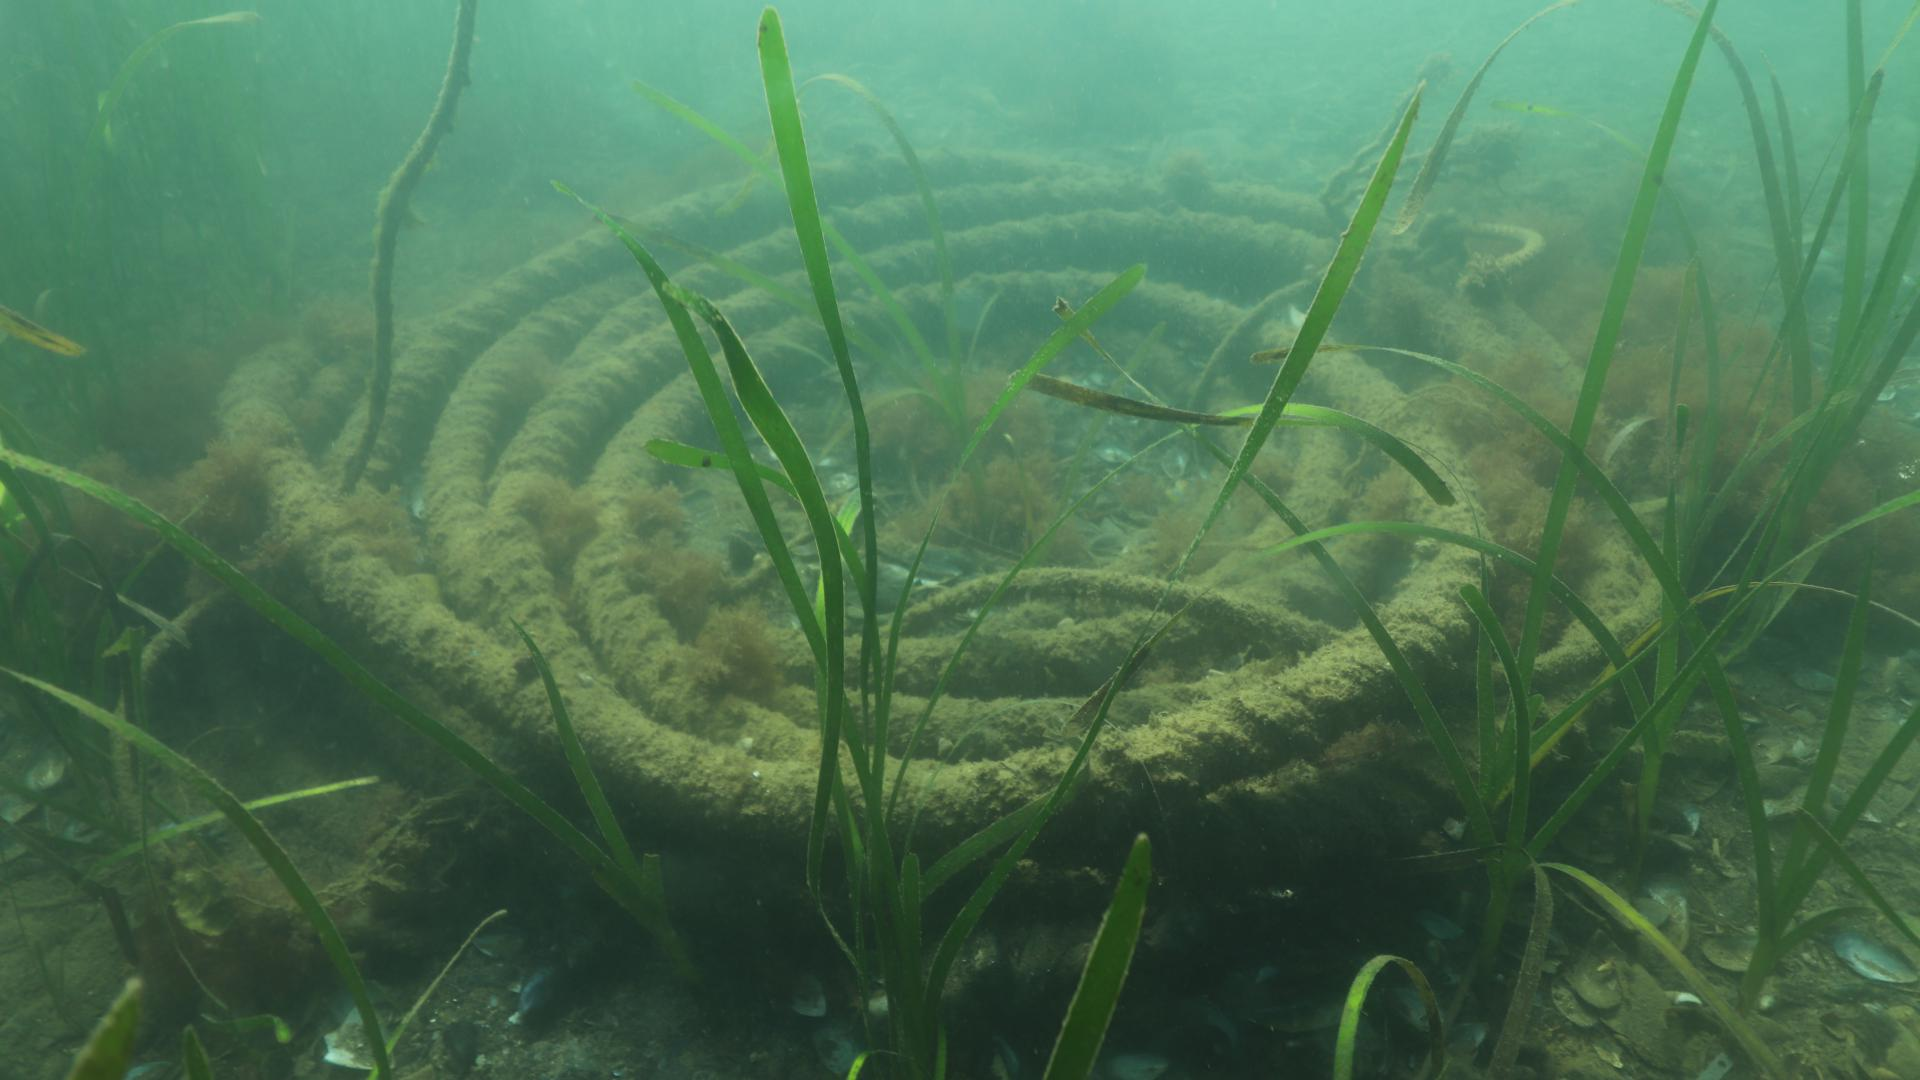bundle of ropes: (208, 136, 1669, 914)
